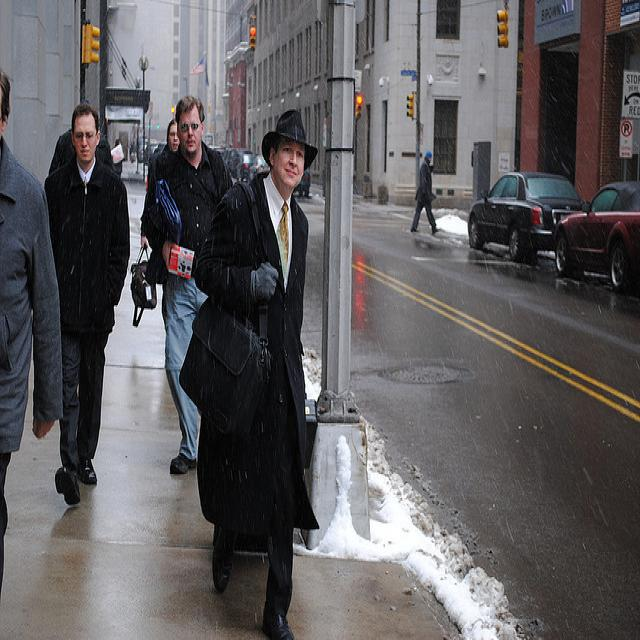Vehicle: (554, 177, 639, 289), (470, 174, 580, 257), (226, 148, 252, 178), (247, 154, 270, 182), (236, 153, 255, 181), (292, 171, 310, 196), (145, 144, 159, 162), (154, 143, 167, 159)
